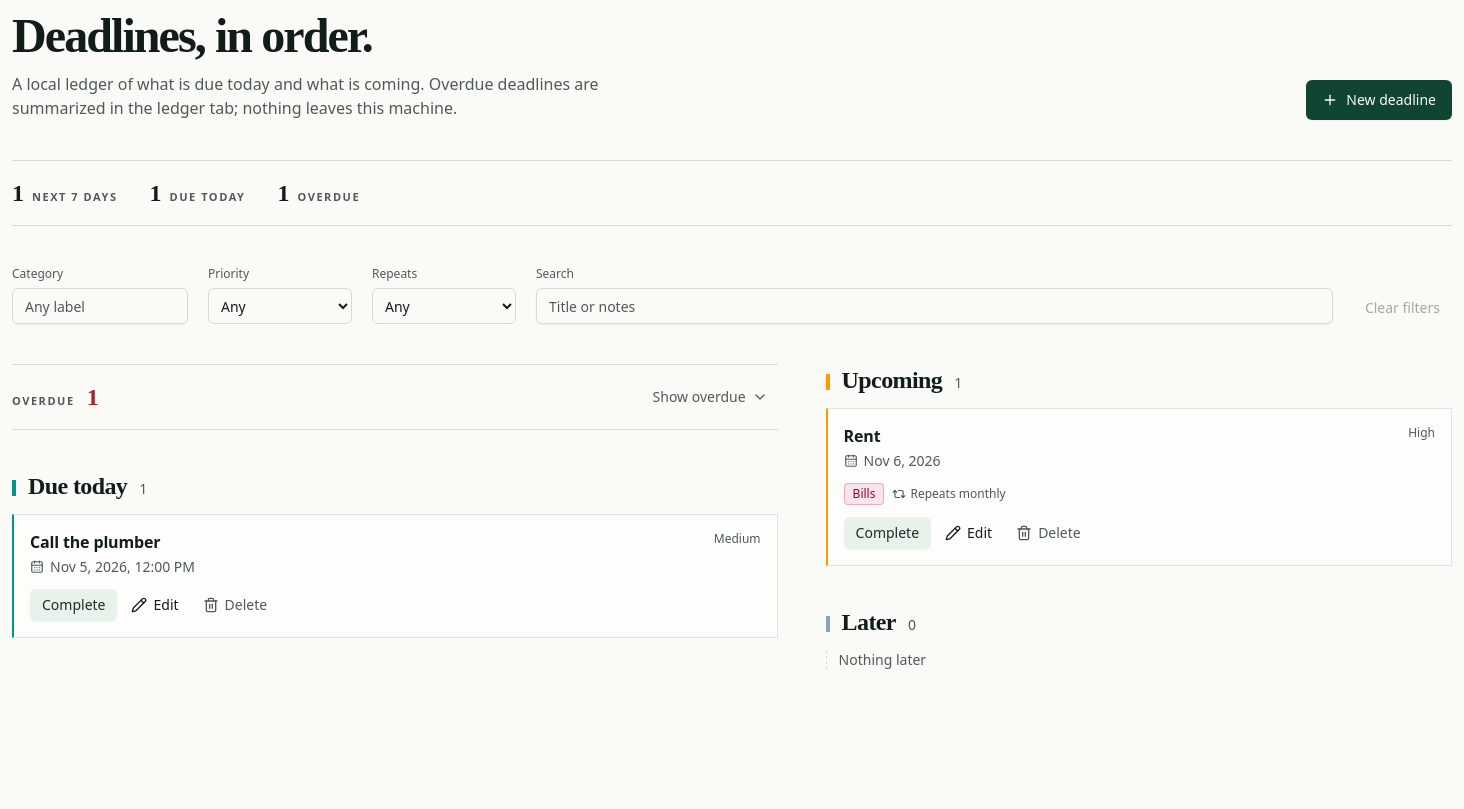
Test: DashboardPage › reveals and hides overdue deadlines with a focus handoff
The width and height of the screenshot is (1464, 809).
Expected: the heading "Call the plumber" is shown, 30,531 -> 160,553
Click the button with aria-label "Show 1 overdue deadline" at (710, 397), box 643,377 -> 778,417
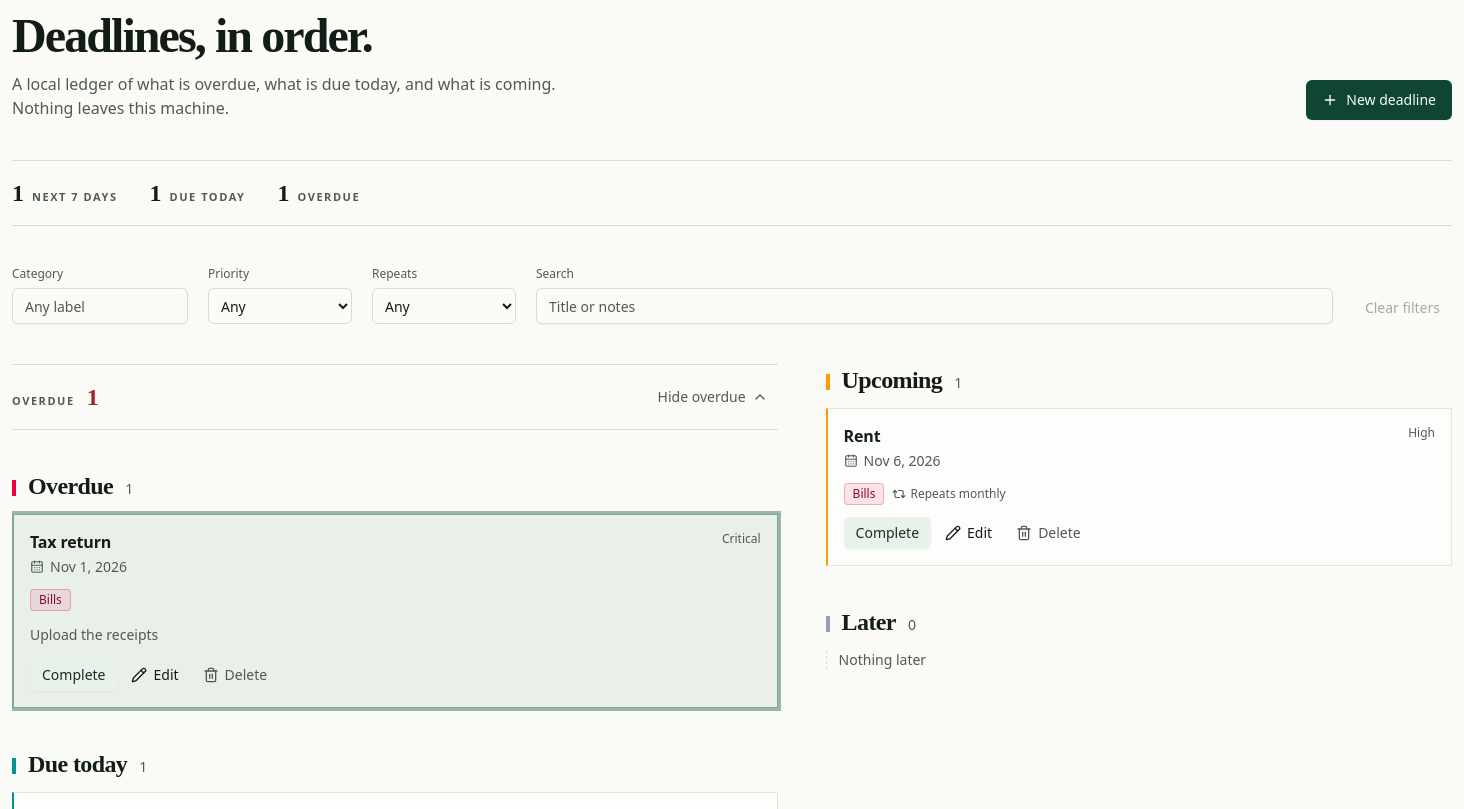
Now the heading "Tax return" is shown, box 30,531 -> 111,553
Now the heading "Overdue" is shown, box 28,470 -> 113,502
Now the button with aria-label "Hide 1 overdue deadline" is expanded
Click the button with aria-label "Hide 1 overdue deadline" at (713, 397), box 648,377 -> 778,417
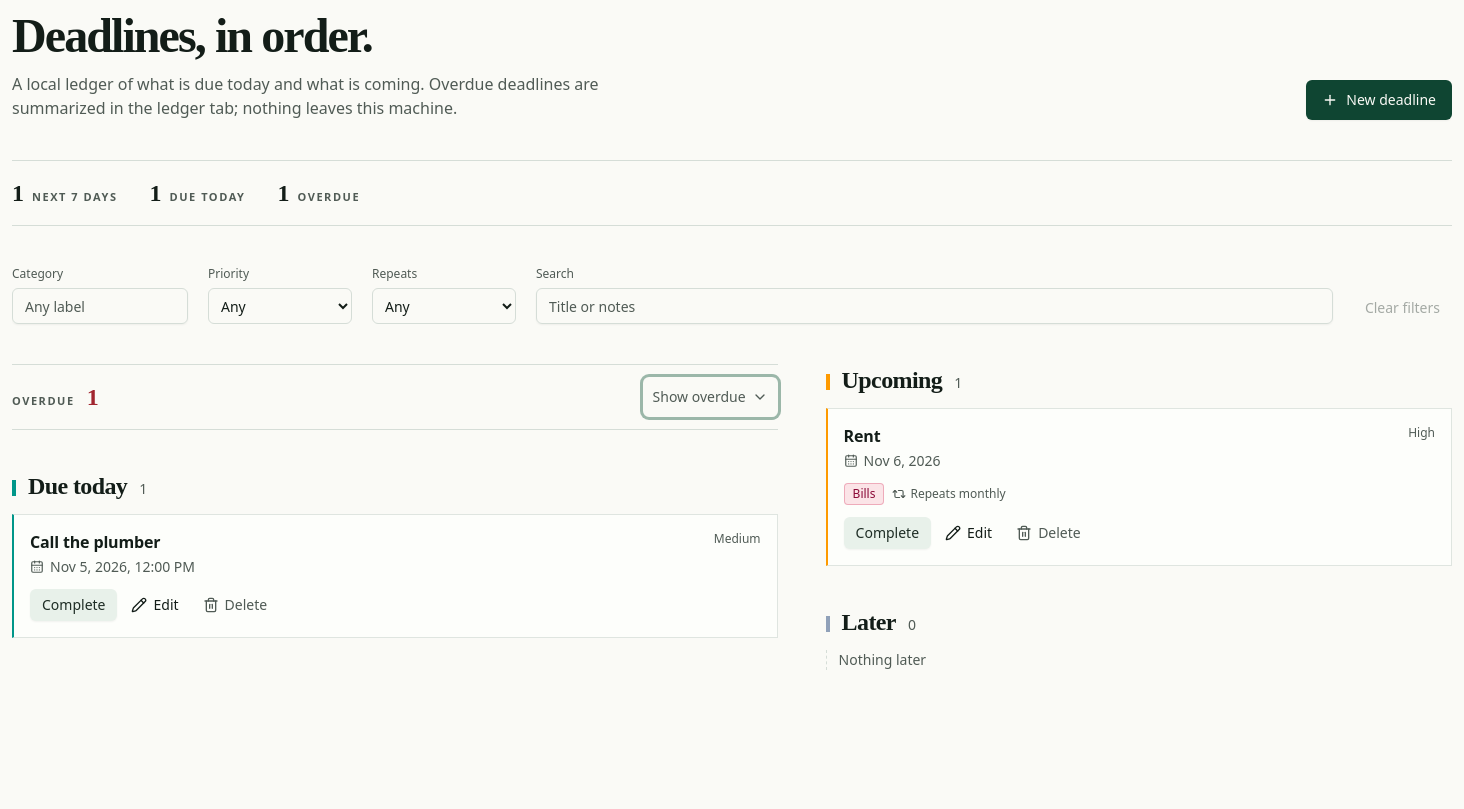
Now the heading "Tax return" is gone
Now the element named "Upcoming deadlines" is shown, box 12,364 -> 1452,670
